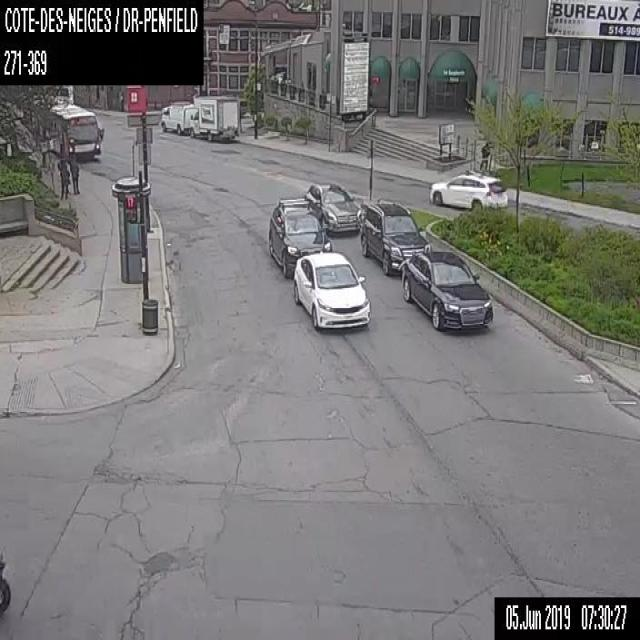bus: (51, 100, 102, 160)
pedestrian: (56, 157, 68, 199), (68, 156, 80, 195), (478, 142, 489, 170)
vehicle: (401, 250, 493, 330), (292, 250, 370, 328), (360, 202, 431, 276), (268, 196, 332, 278), (428, 169, 508, 216), (305, 180, 360, 233), (189, 95, 238, 140), (160, 102, 194, 134), (0, 550, 7, 616)
